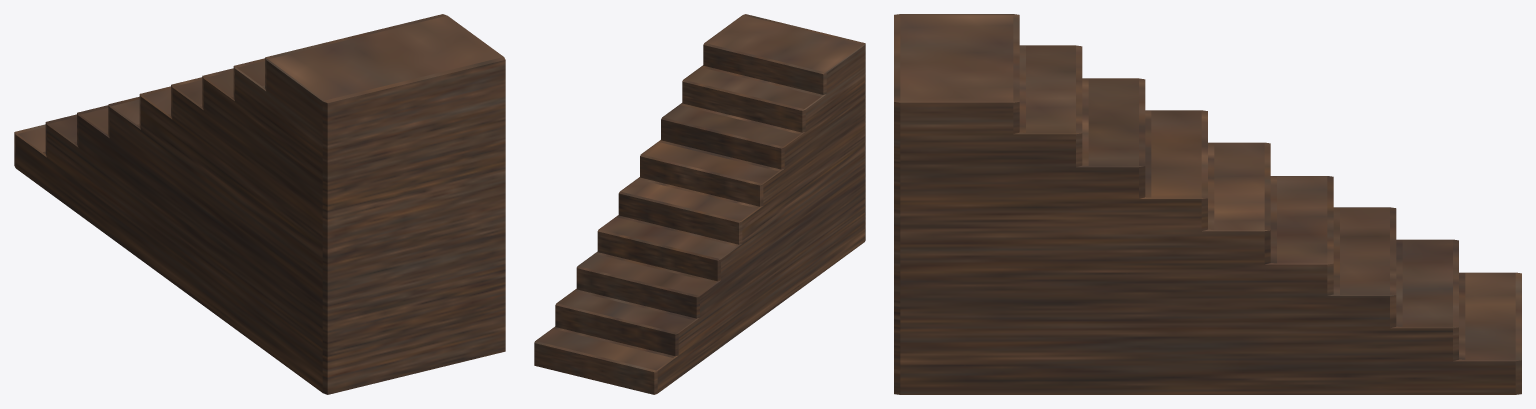
The model's file is schody.fbx.
3 renders of one model, left to right at view 1: azimuth 30°, elevation 25°; view 2: azimuth 150°, elevation 25°; view 3: azimuth 270°, elevation 25°, orthographic. The views are drawn at different scales.
Visible parts, largest first — view 1: schody.001; view 2: schody.001; view 3: schody.001.
Boxes of the visible parts, left/top/right/bottom form: schody.001: left=14, top=14, right=505, bottom=394; schody.001: left=534, top=14, right=865, bottom=394; schody.001: left=894, top=14, right=1521, bottom=394.
Bounding box in the file's own units: 235 × 362 × 703.
